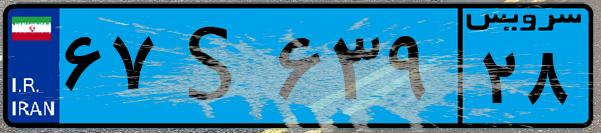2: (475, 38, 525, 113)
3: (330, 28, 385, 110)
6: (270, 28, 330, 110), (57, 26, 110, 100)
7: (110, 28, 158, 98)
8: (525, 38, 570, 115)
9: (385, 28, 445, 110)
S: (158, 12, 270, 120)
